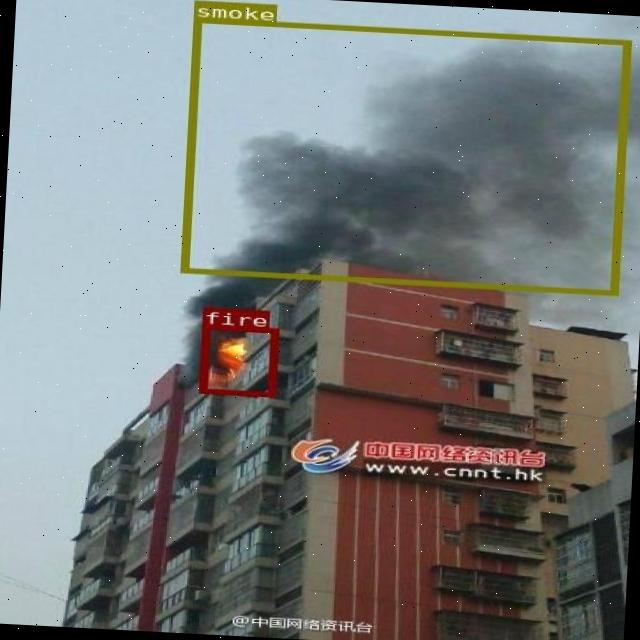fire: (200, 324, 278, 396)
smoke: (180, 17, 630, 294)
